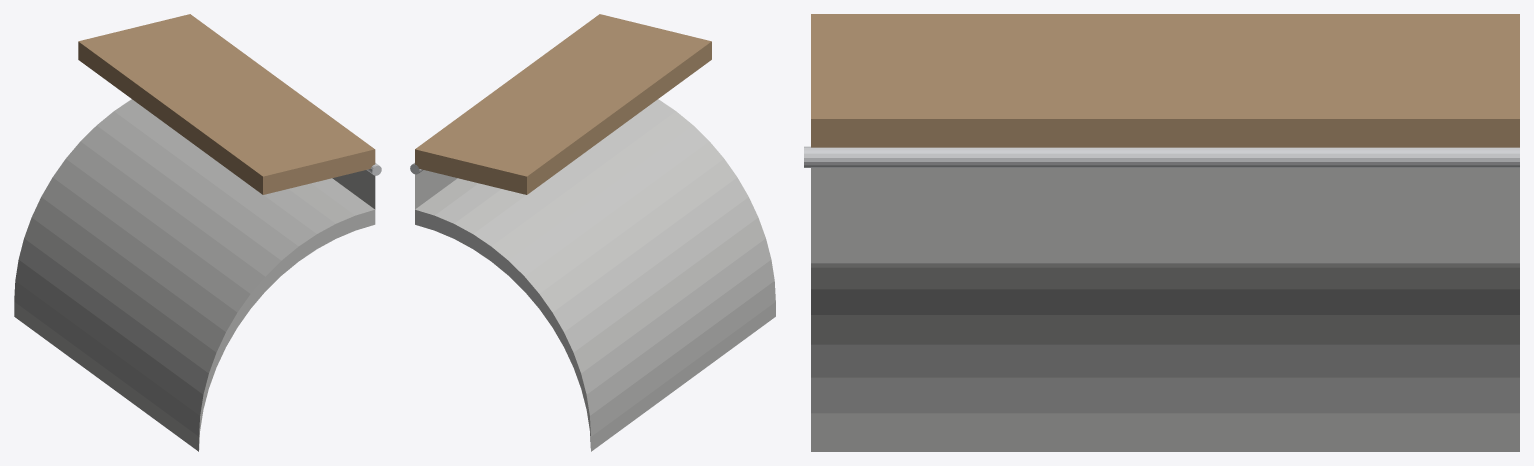
File: quarter_pipe.glb
3 views of the same model, side by side, from view 1: azimuth 30°, elevation 25°; view 2: azimuth 150°, elevation 25°; view 3: azimuth 270°, elevation 25° (orthographic). The views are drawn at different scales.
Visible parts, largest first — view 1: QuarterPipe, QuarterPipe_platform; view 2: QuarterPipe, QuarterPipe_platform; view 3: QuarterPipe, QuarterPipe_platform, QuarterPipe_coping.
Part boxes in pixels (bbox=[...]): QuarterPipe: bbox=[14, 99, 375, 451]; QuarterPipe_platform: bbox=[78, 14, 375, 194]; QuarterPipe: bbox=[415, 99, 775, 451]; QuarterPipe_platform: bbox=[415, 14, 711, 194]; QuarterPipe: bbox=[811, 168, 1519, 451]; QuarterPipe_platform: bbox=[811, 14, 1519, 147]; QuarterPipe_coping: bbox=[804, 146, 1519, 167].
Size of the model in its own units: 2.26 by 3.1 by 4.04.
